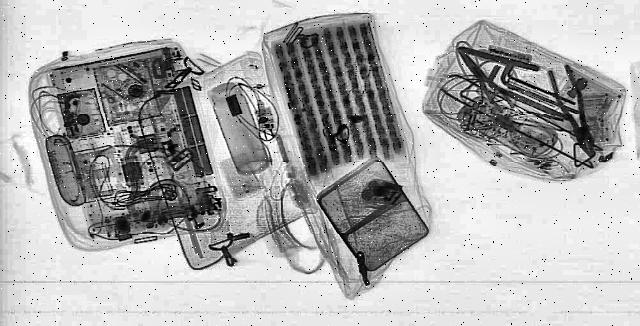Pliers: (541, 65, 603, 159), (449, 50, 516, 112)
